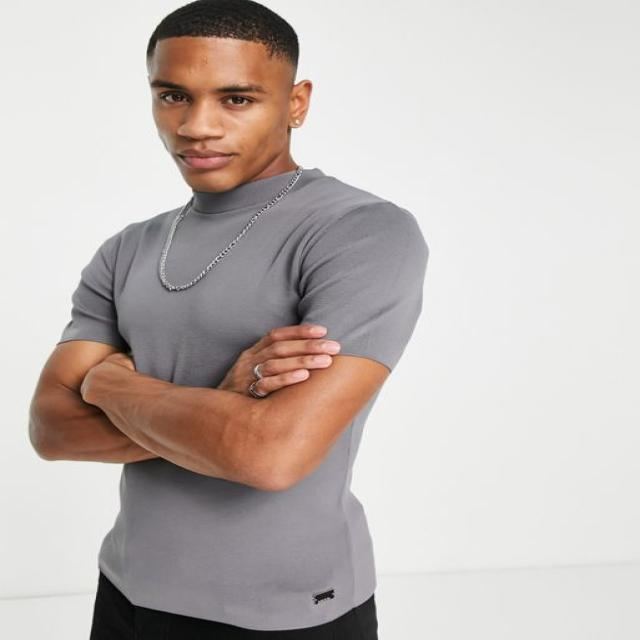tshirt: (56, 166, 429, 628)
